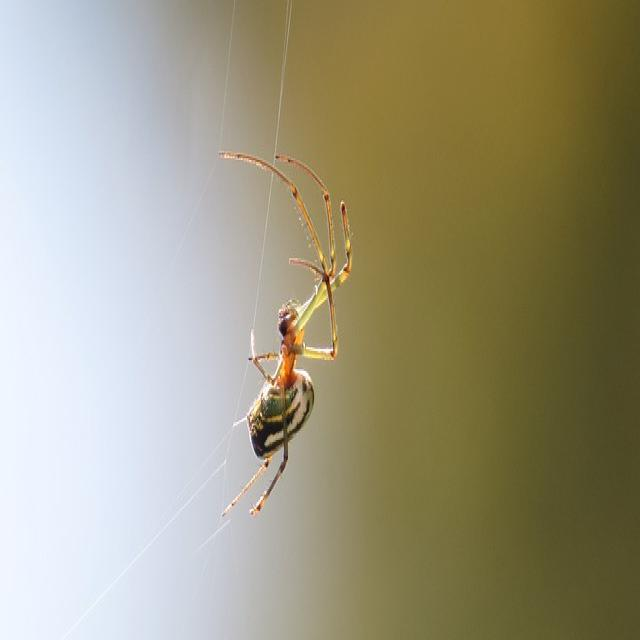spyder: (222, 152, 351, 512)
